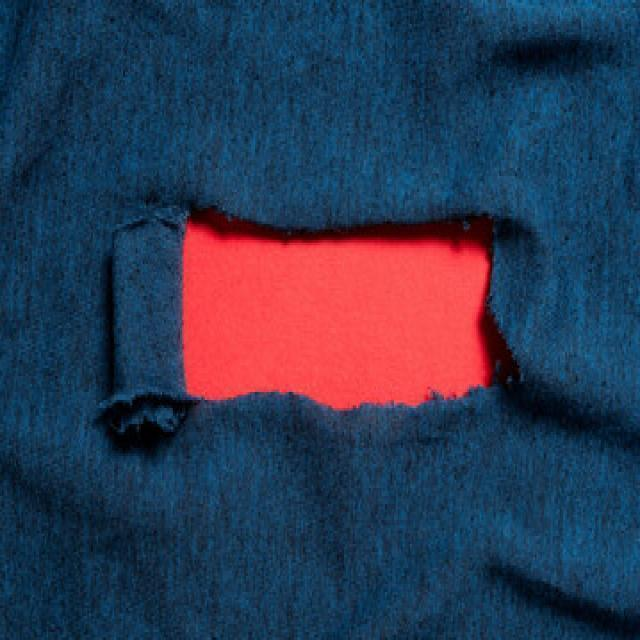Hole: (183, 210, 516, 410)
